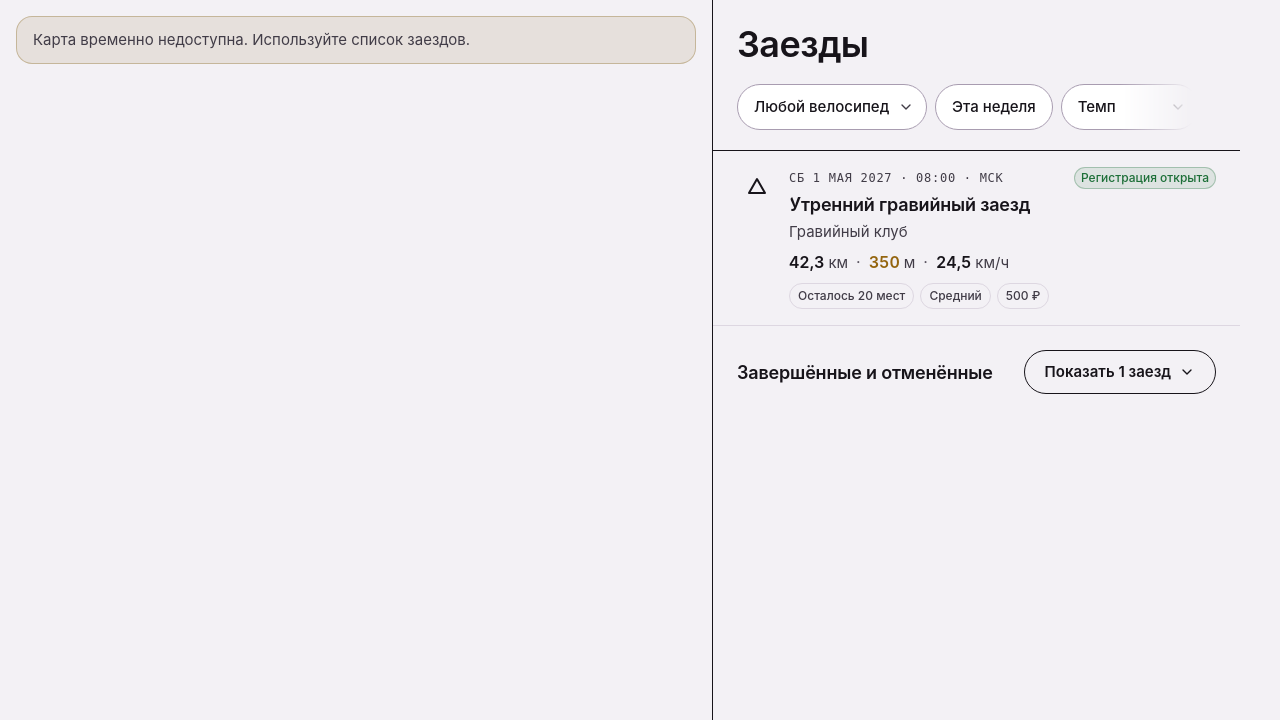
Test: DiscoveryList › asks for the active phase, and lists finished/cancelled rides apart, off the map (CR-193)
Expected: the link "Утренний гравийный заезд" is shown, [789,194,1030,215]
Expected: the text "Завершённый заезд" is not shown
Click the button "Показать 1 заезд". click: (1120, 372)
box: [1024,350,1216,394]
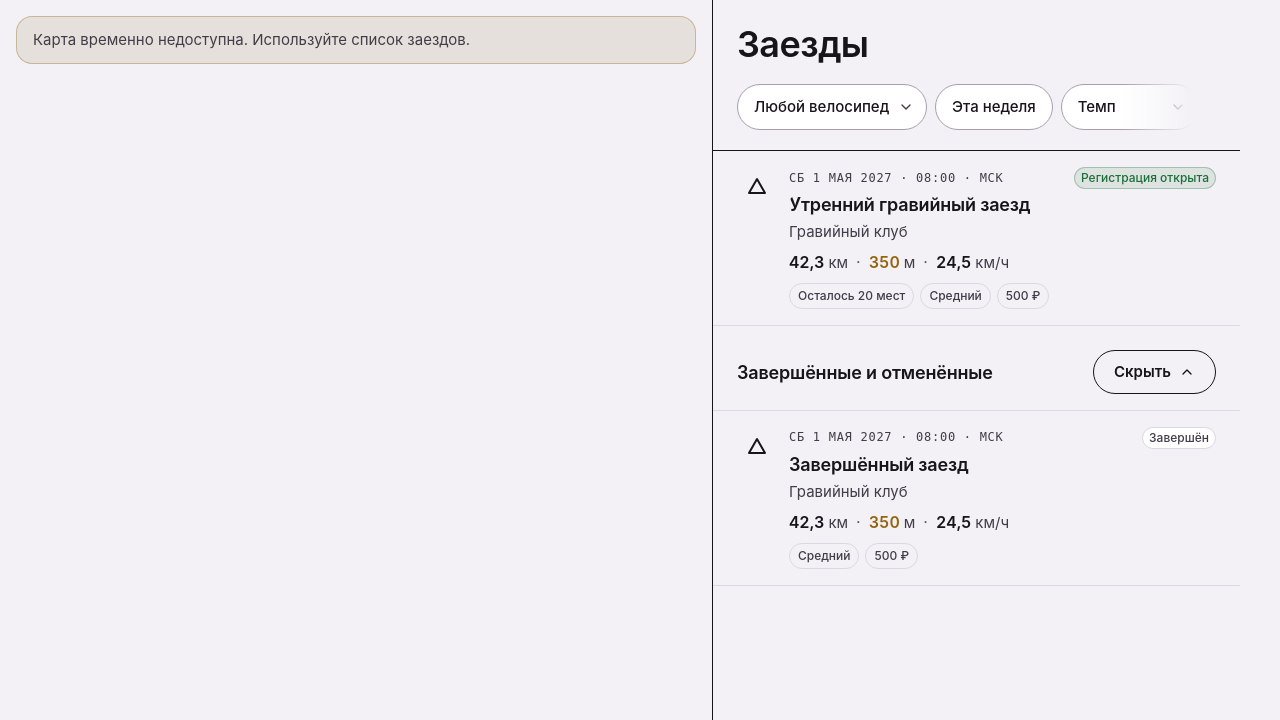
Result: the text "Завершён" is shown at [1142,427,1216,449]
Result: the button "Скрыть" is expanded at [1093,350,1216,394]
